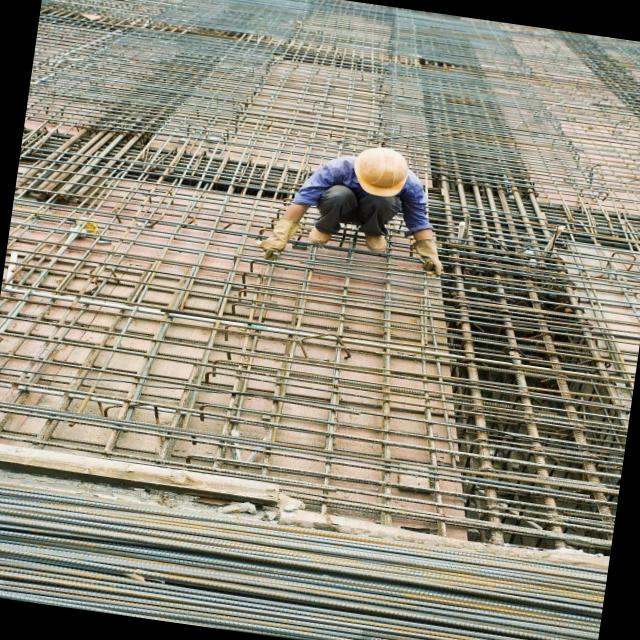helmet: (345, 146, 416, 202)
